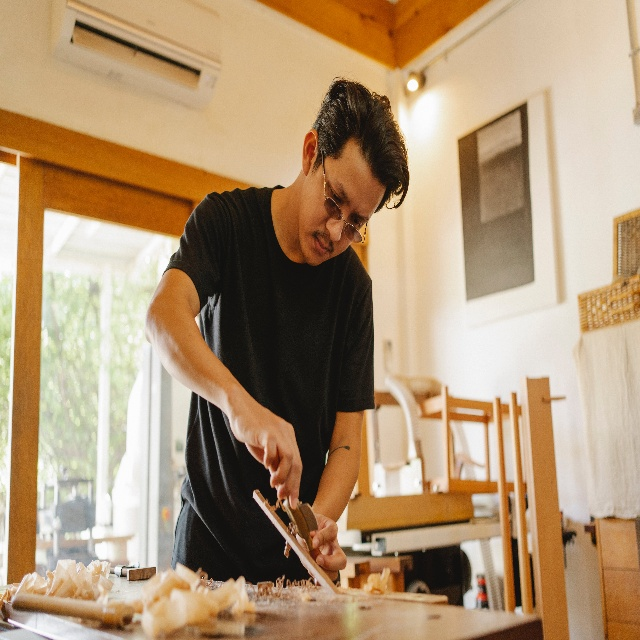Gafas: (320, 148, 368, 244)
Sin_guantes: (228, 386, 303, 511), (308, 512, 347, 582)
